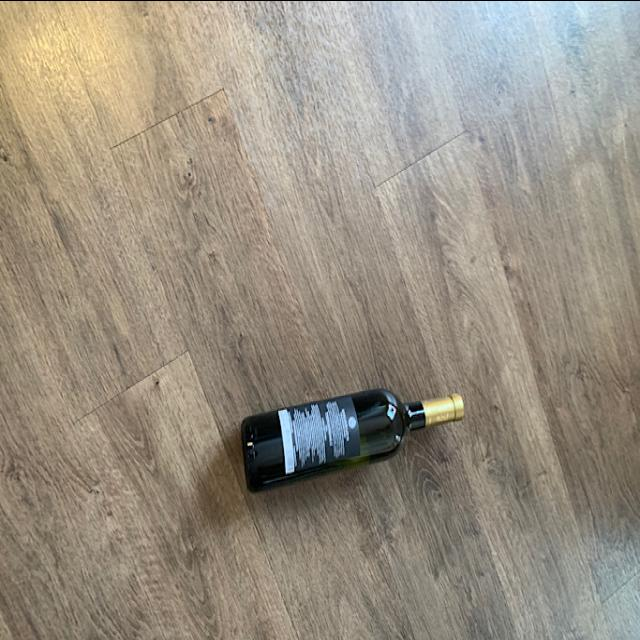Glass Bottle: (240, 366, 467, 496)
